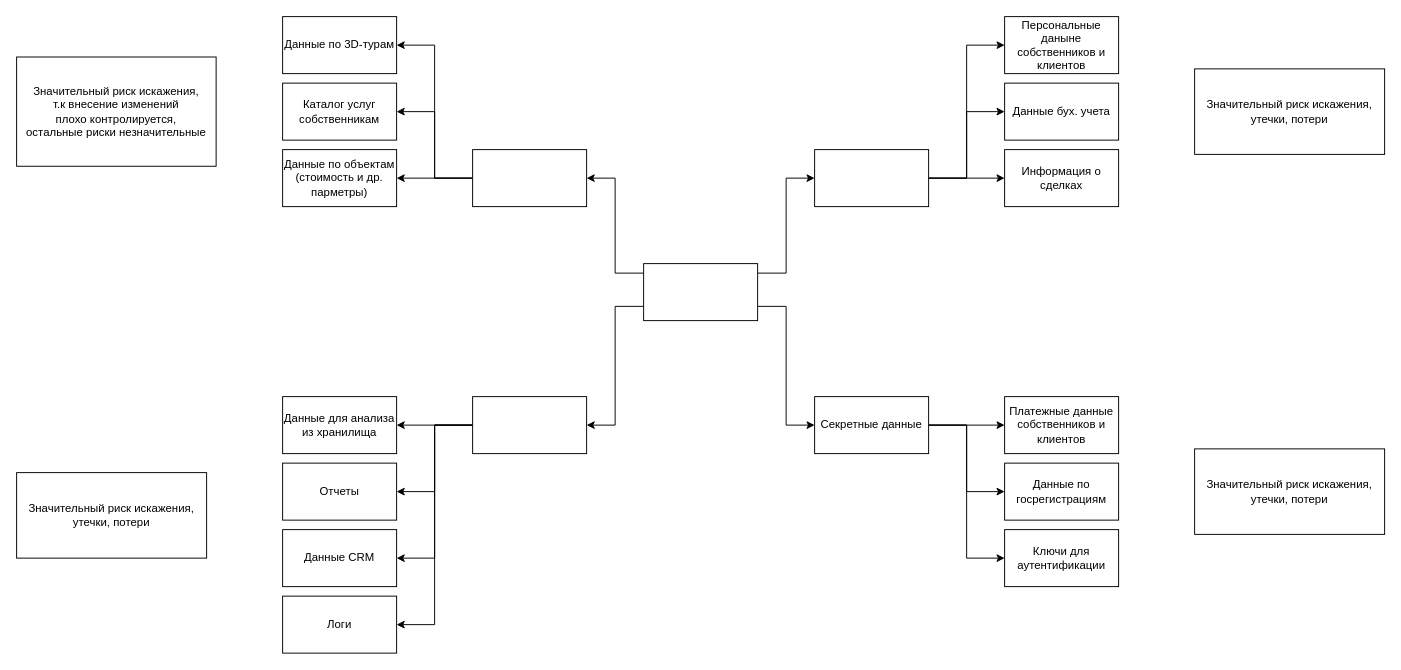
The diagram is 1401 pixels wide and 670 high, and some of its shapes have lost their labels. Each missing label, with the centre of its shape:
Безопасность данных: the point at 700,292
Внутренние данные: the point at 529,425
Конфиденциальные данные: the point at 871,178
Публичные данные: the point at 529,178
